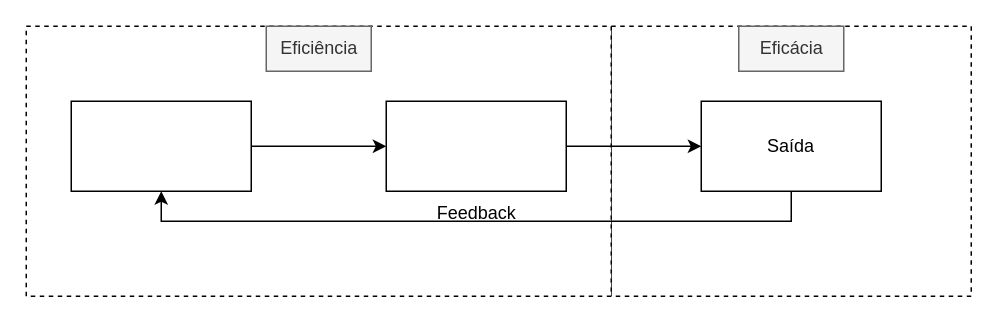
This 998x323 diagram has some shape labels left out. Here are the shapes that lost their labels. From the top down, the box of each, then its label:
(70, 100, 251, 191): Entrada
(385, 100, 566, 191): Processamento
